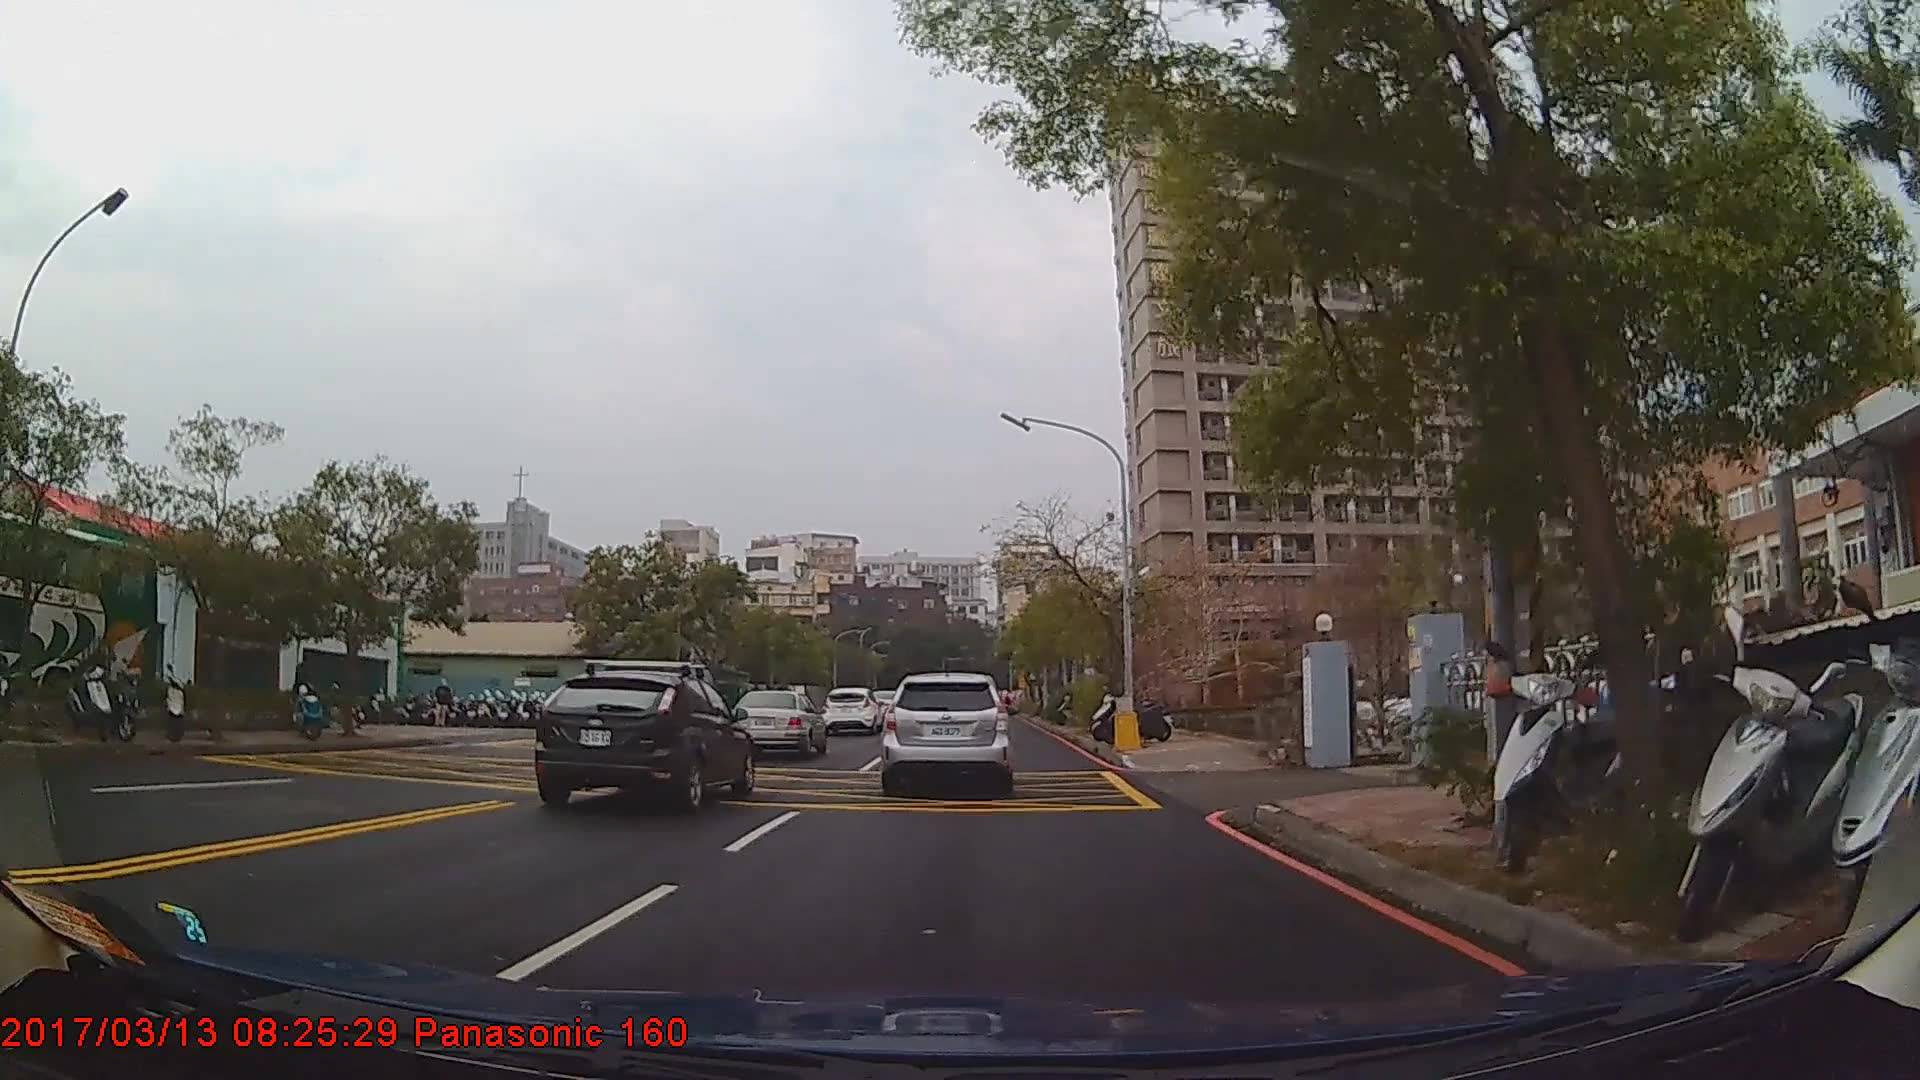pedestrian: (435, 680, 455, 728)
vehicle: (0, 503, 160, 726), (532, 668, 754, 811), (883, 672, 1009, 788), (729, 687, 824, 757), (822, 686, 884, 736)
